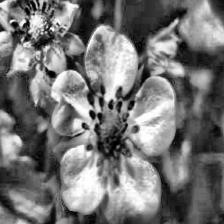Blossom Blight: (78, 83, 142, 170), (8, 0, 68, 71)
